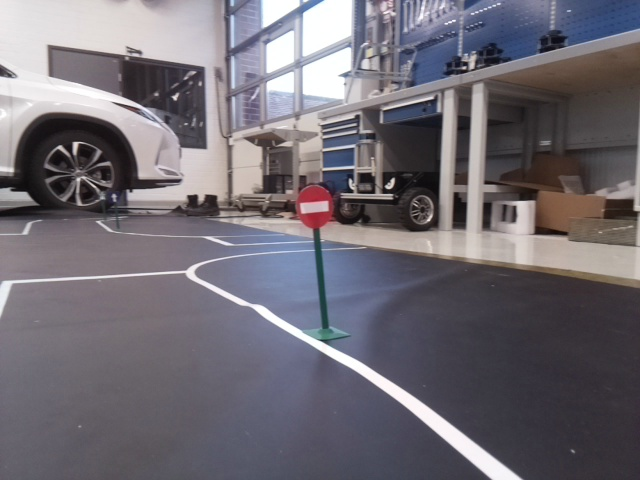NoEntry: (293, 187, 335, 229)
